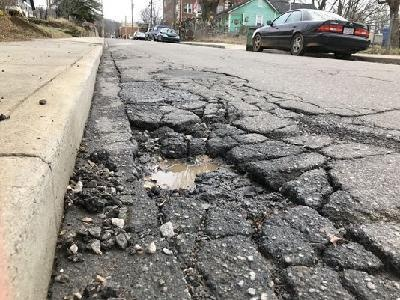pothole: (127, 117, 305, 213)
